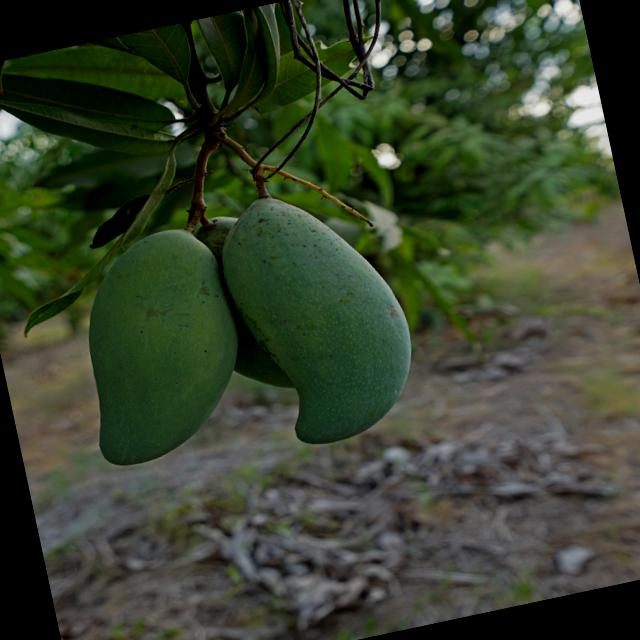onion: (200, 174, 445, 456), (46, 208, 273, 487)
